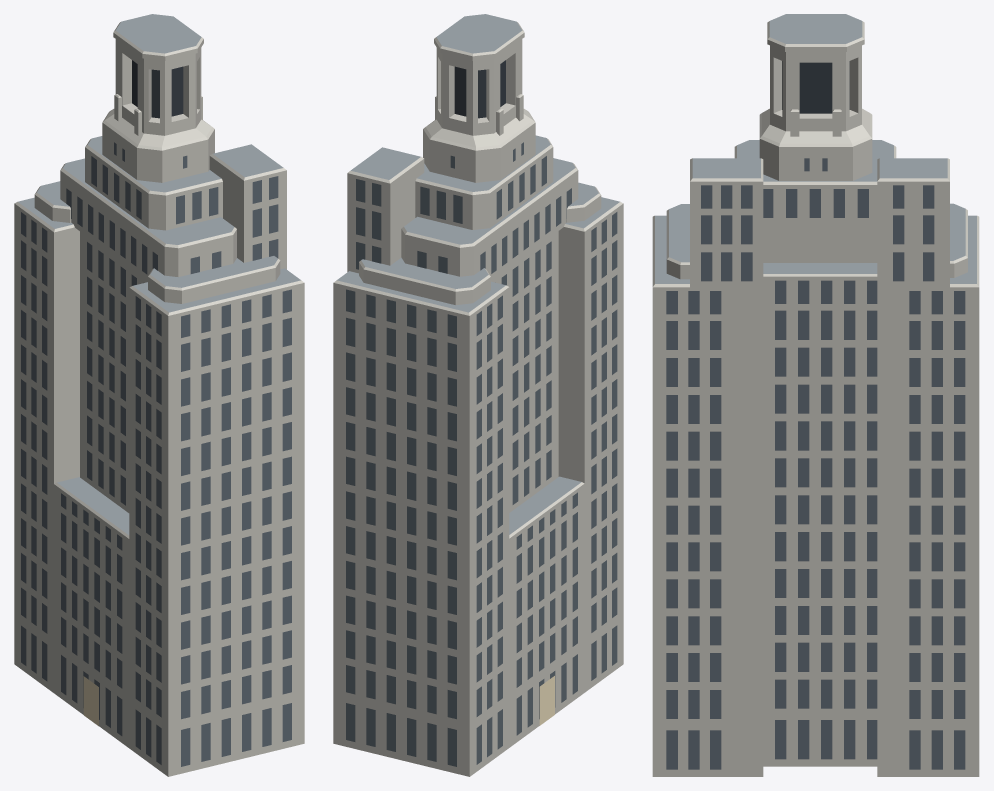
The model's file is phl-lincoln-liberty-building.glb.
3 renders of one model, left to right at view 1: azimuth 30°, elevation 25°; view 2: azimuth 150°, elevation 25°; view 3: azimuth 270°, elevation 25°, orthographic. The views are drawn at different scales.
Visible parts, largest first — view 1: One South Broad; view 2: One South Broad; view 3: One South Broad.
Part boxes in pixels (x1,y1,x2,y2): One South Broad: (14, 14, 304, 776); One South Broad: (333, 14, 623, 776); One South Broad: (652, 14, 979, 776).
Bounding box in the file's own units: 30.9 × 145 × 60.28.
